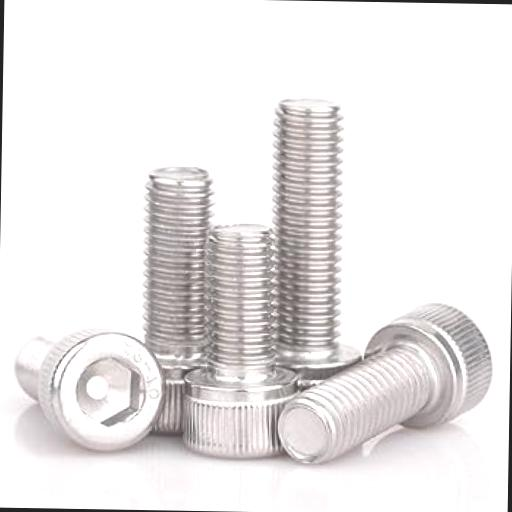Hex-Allen: (36, 326, 163, 455)
